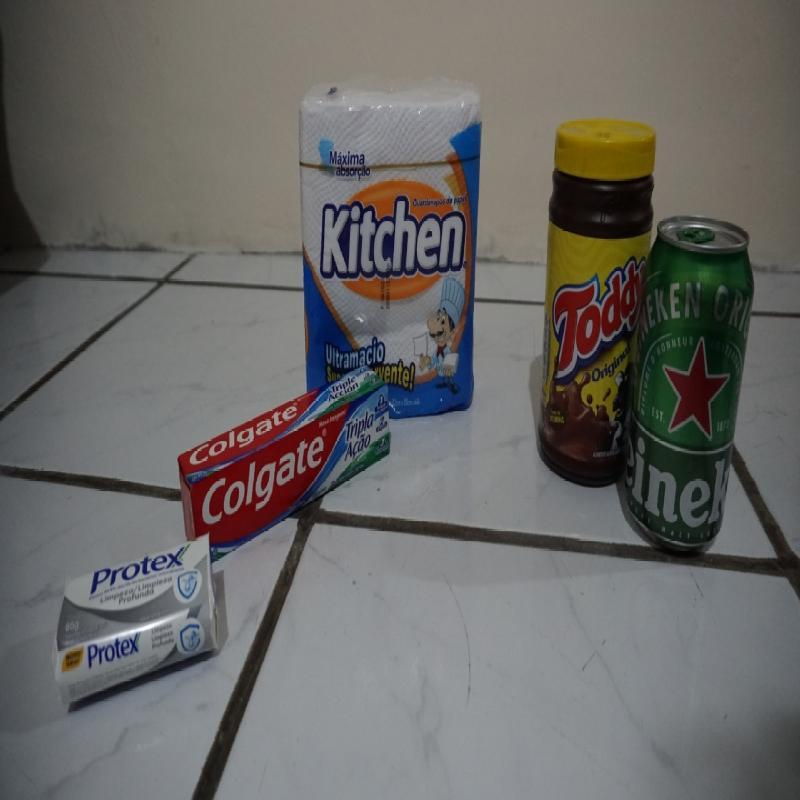Beer can: (630, 211, 754, 556)
Chocolate Powder: (535, 122, 627, 496)
Napkin: (300, 88, 480, 366)
Soap: (59, 532, 219, 711)
Toothpaste: (182, 369, 395, 529)
